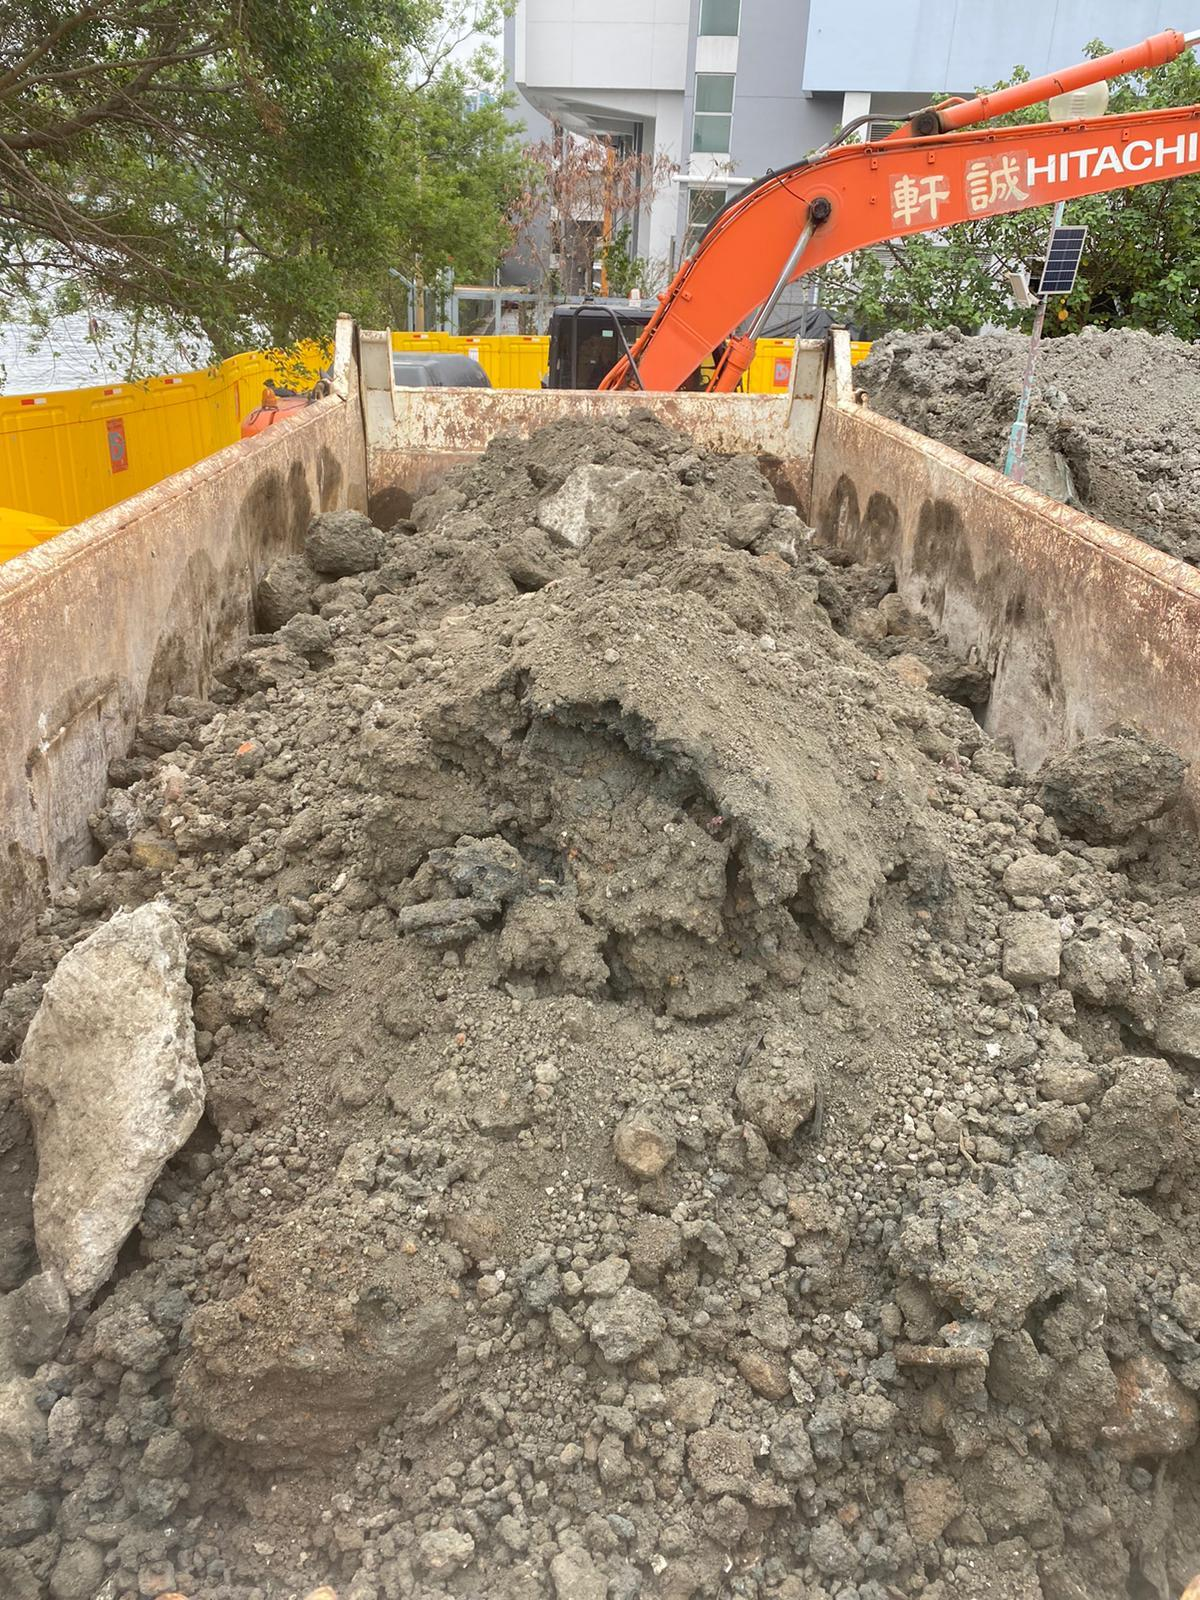dirt: (1, 402, 1197, 1597)
stone: (13, 898, 208, 1301), (303, 506, 386, 574), (613, 1112, 676, 1178)
